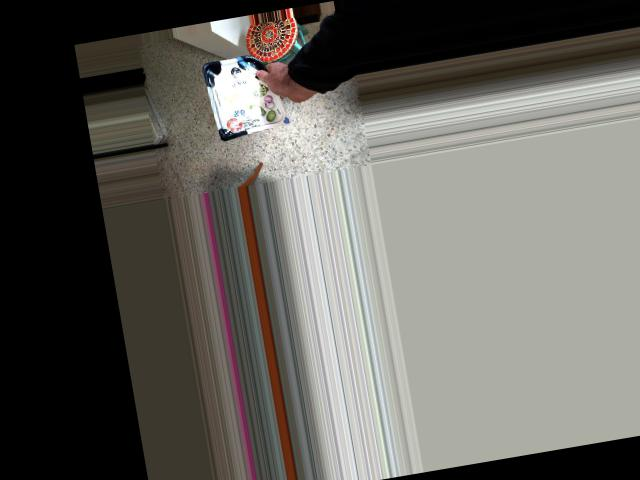cheese: (217, 44, 316, 137)
